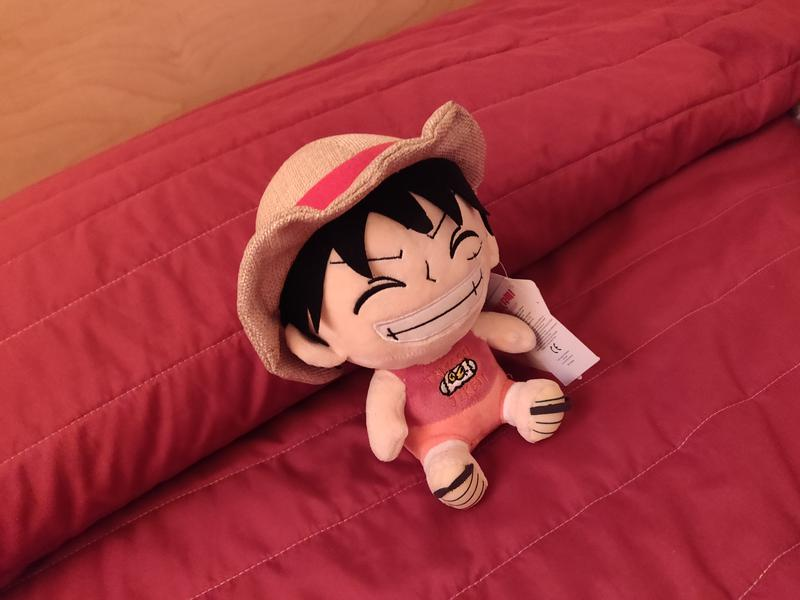rufy: (234, 105, 604, 507)
